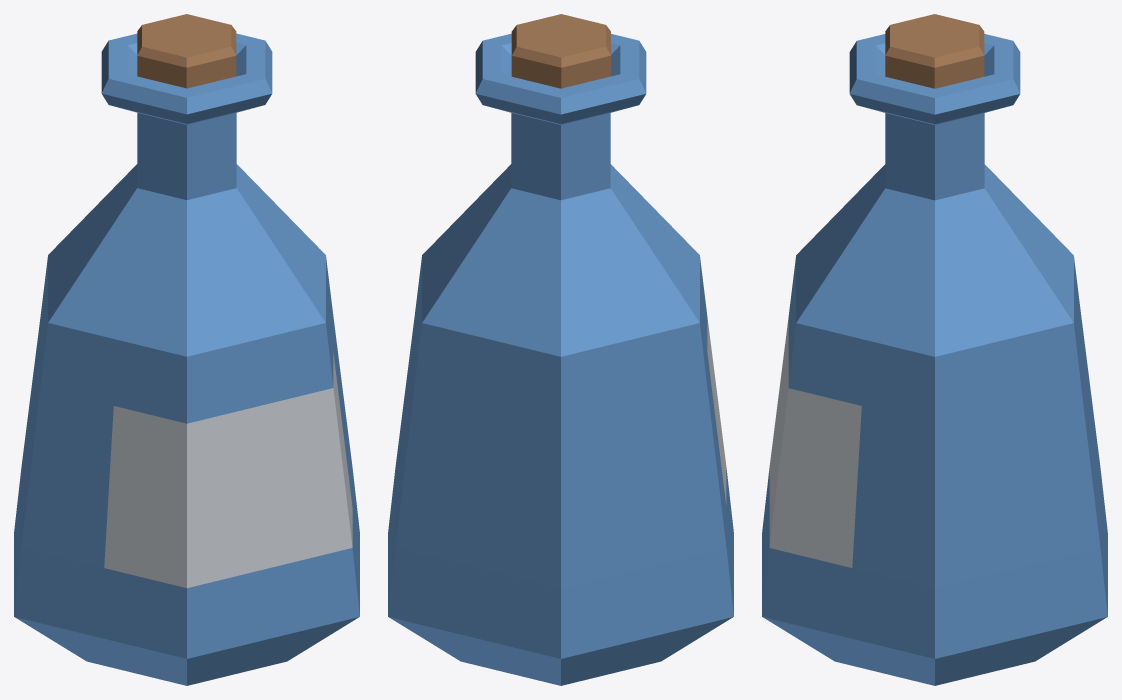
The model's file is Blue_Potion_7(Label).fbx.
The picture shows the model from 3 angles, left to right: view 1: azimuth 30°, elevation 25°; view 2: azimuth 150°, elevation 25°; view 3: azimuth 270°, elevation 25°; orthographic projection.
Parts seen in each view (by area): view 1: Blue_Potion_7(Label); view 2: Blue_Potion_7(Label); view 3: Blue_Potion_7(Label).
Boxes of the visible parts, x1,y1,x2,y2 form: Blue_Potion_7(Label): (14,14,359,685); Blue_Potion_7(Label): (388,14,733,685); Blue_Potion_7(Label): (762,14,1107,685).
Size of the model in its own units: 20.48 by 34.03 by 17.74.
